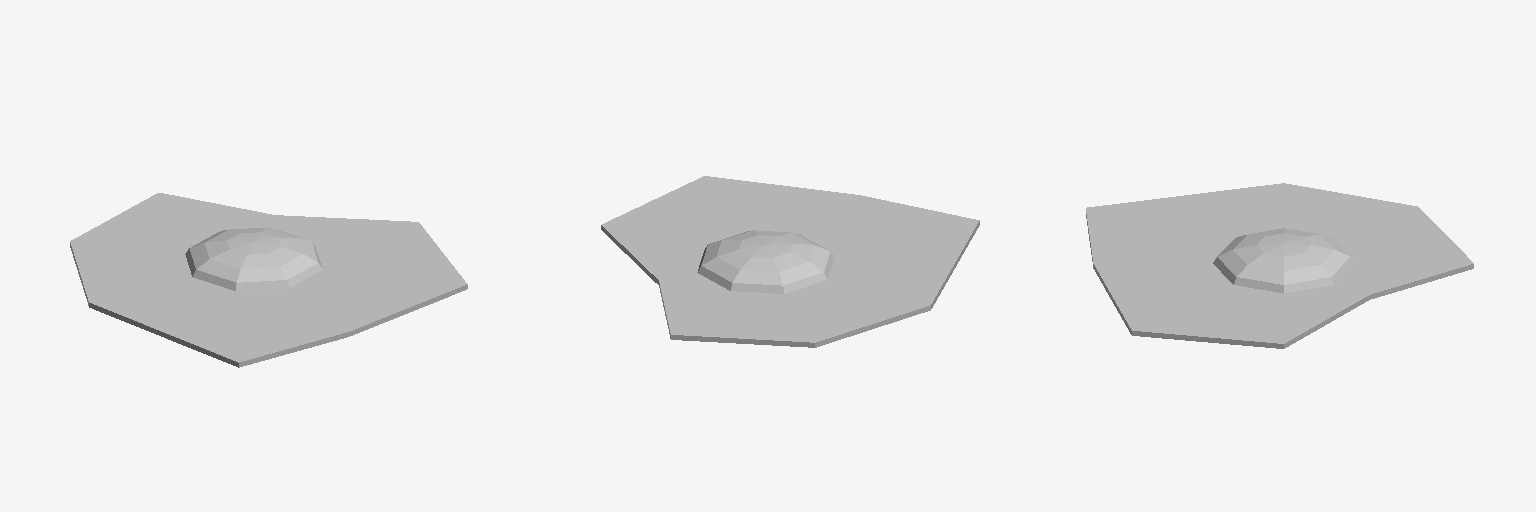
Rendered from eggYolk.obj.
3 views of the same model, side by side, from view 1: azimuth 30°, elevation 25°; view 2: azimuth 150°, elevation 25°; view 3: azimuth 270°, elevation 25° (orthographic).
Visible parts, largest first — view 1: pCylinder1, pSphere1; view 2: pCylinder1, pSphere1; view 3: pCylinder1, pSphere1.
Boxes of the visible parts, x1=… form: pCylinder1: x1=70, y1=193, x2=467, y2=367; pSphere1: x1=185, y1=227, x2=322, y2=290; pCylinder1: x1=601, y1=176, x2=979, y2=347; pSphere1: x1=697, y1=230, x2=834, y2=293; pCylinder1: x1=1086, y1=183, x2=1473, y2=348; pSphere1: x1=1213, y1=228, x2=1354, y2=293.
Size of the model in its own units: 15.48 by 1.14 by 15.8.